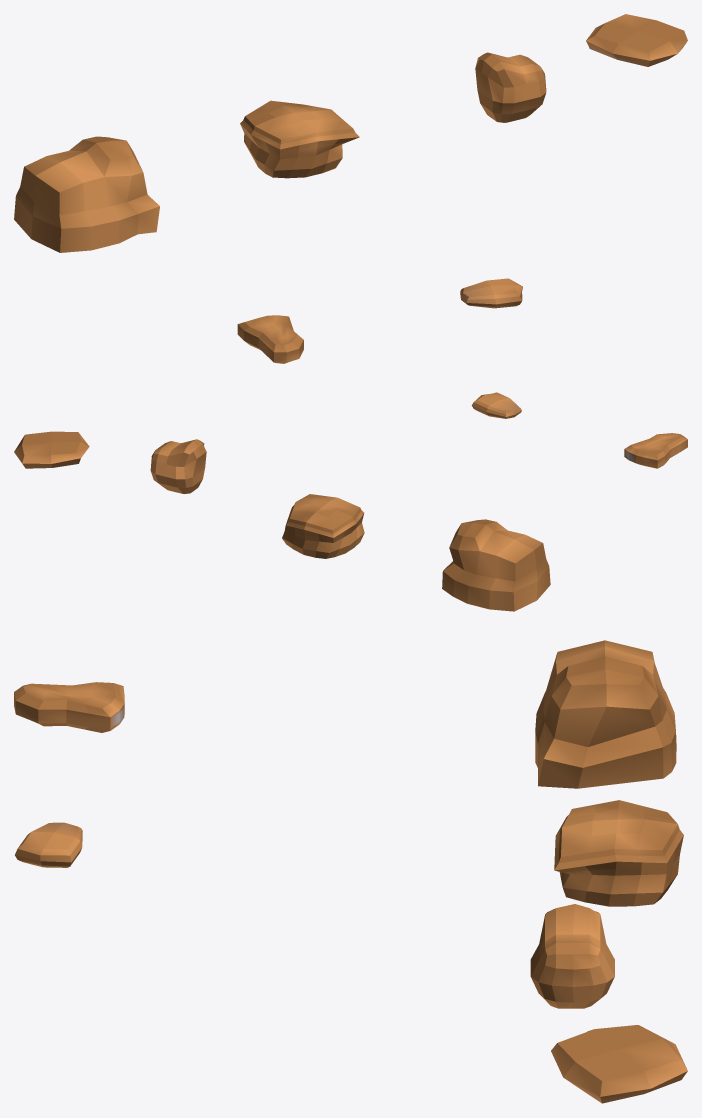
Rendered from Rock_DesertV01.fbx.
The picture shows the model from 3 angles, top to bottom: view 1: azimuth 30°, elevation 25°; view 2: azimuth 150°, elevation 25°; view 3: azimuth 270°, elevation 25°; orthographic projection. The views are drawn at different scales.
Parts seen in each view (by area): view 1: Rock_Desert08, Rock_Desert07, Rock_Desert06, Rock_Desert10, Rock_Desert12, Rock_Desert11; view 2: Rock_Desert08, Rock_Desert07, Rock_Desert06, Rock_Desert10, Rock_Desert12, Rock_Desert11; view 3: Rock_Desert08, Rock_Desert07, Rock_Desert10, Rock_Desert06, Rock_Desert12, Rock_Desert11.
Boxes of the visible parts, x1=… form: Rock_Desert08: x1=14, y1=136, x2=159, y2=252; Rock_Desert07: x1=240, y1=100, x2=359, y2=178; Rock_Desert06: x1=475, y1=52, x2=546, y2=122; Rock_Desert10: x1=586, y1=14, x2=687, y2=66; Rock_Desert12: x1=237, y1=315, x2=303, y2=363; Rock_Desert11: x1=460, y1=278, x2=522, y2=308; Rock_Desert08: x1=442, y1=519, x2=550, y2=611; Rock_Desert07: x1=282, y1=494, x2=364, y2=558; Rock_Desert06: x1=150, y1=439, x2=206, y2=493; Rock_Desert10: x1=14, y1=431, x2=89, y2=468; Rock_Desert12: x1=624, y1=433, x2=687, y2=468; Rock_Desert11: x1=471, y1=392, x2=521, y2=418; Rock_Desert08: x1=535, y1=640, x2=676, y2=788; Rock_Desert07: x1=554, y1=800, x2=683, y2=906; Rock_Desert10: x1=551, y1=1025, x2=687, y2=1103; Rock_Desert06: x1=530, y1=904, x2=614, y2=1008; Rock_Desert12: x1=14, y1=682, x2=124, y2=732; Rock_Desert11: x1=15, y1=822, x2=82, y2=867.
Bounding box in the file's own units: 268 × 33.85 × 178.
